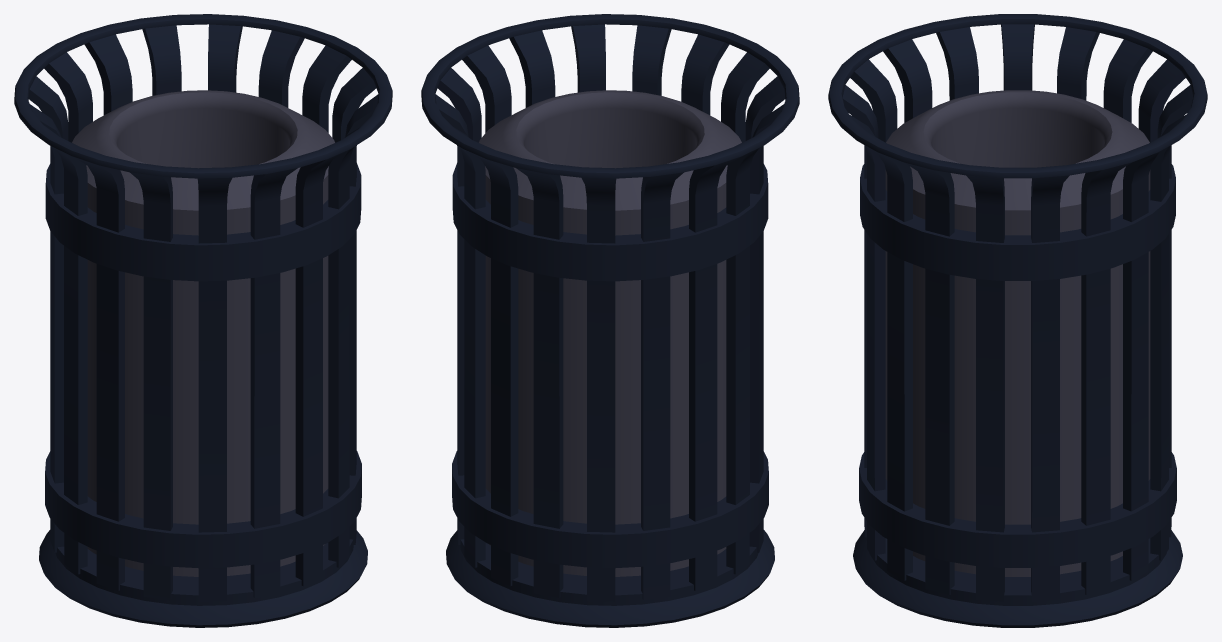
Rendered from trash_can.fbx.
3 renders of one model, left to right at view 1: azimuth 30°, elevation 25°; view 2: azimuth 150°, elevation 25°; view 3: azimuth 270°, elevation 25°, orthographic.
Visible parts, largest first — view 1: trash_Can; view 2: trash_Can; view 3: trash_Can.
Part boxes in pixels (x1=…): trash_Can: x1=14, y1=14, x2=392, y2=627; trash_Can: x1=421, y1=14, x2=799, y2=627; trash_Can: x1=828, y1=14, x2=1207, y2=627.
Bounding box in the file's own units: 56.07 × 76.6 × 56.31.
